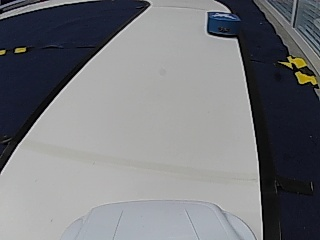prop: (207, 11, 240, 38)
